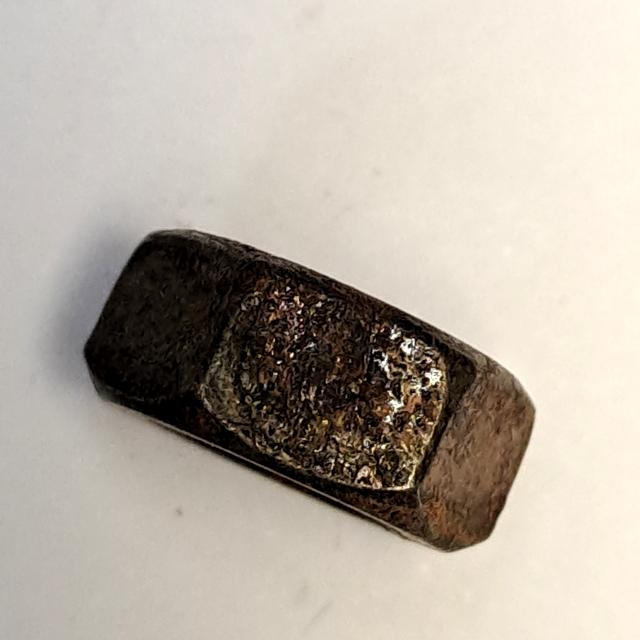Side_Rust: (62, 207, 550, 568)
